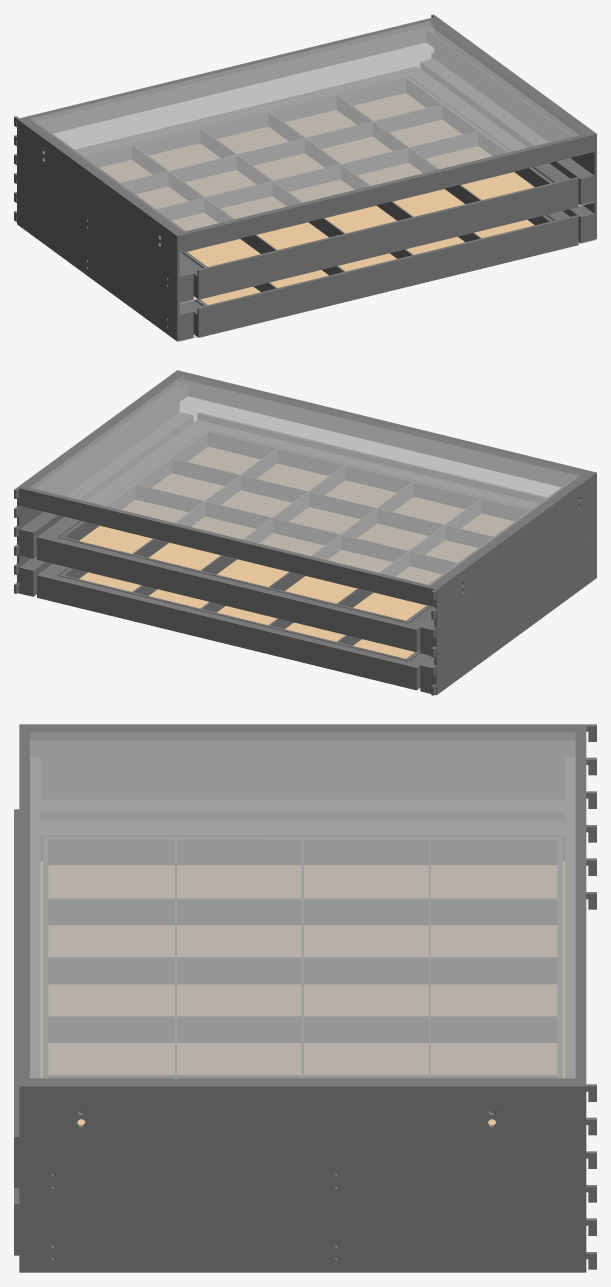
3 views of the same model, one above another, from view 1: azimuth 30°, elevation 25°; view 2: azimuth 150°, elevation 25°; view 3: azimuth 270°, elevation 25° (orthographic). The views are drawn at different scales.
Visible parts, largest first — view 1: Geom3D (×3); view 2: Geom3D (×3); view 3: Geom3D (×3).
Part boxes in pixels (box(x1,y1,x2,y2)): Geom3D (×3): box(14, 14, 596, 341); Geom3D (×3): box(14, 370, 596, 695); Geom3D (×3): box(14, 724, 596, 1272).
Bounding box in the file's own units: 0.75 × 0.181 × 0.5103.
